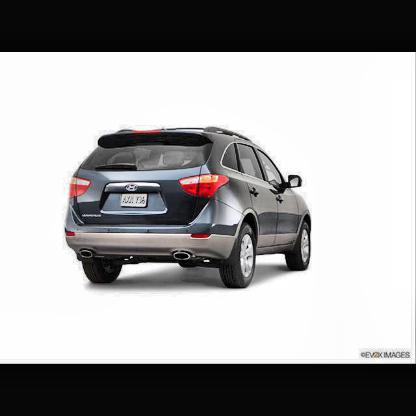Hyundai Veracruz SUV 2012: (65, 127, 313, 291)
